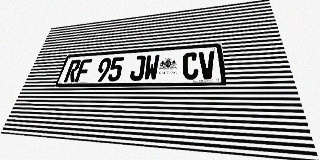5: (107, 57, 125, 81)
9: (95, 57, 112, 82)
C: (182, 52, 199, 80)
F: (74, 59, 92, 82)
J: (129, 55, 146, 81)
R: (63, 59, 82, 82)
V: (198, 51, 216, 79)
W: (143, 54, 160, 81)
